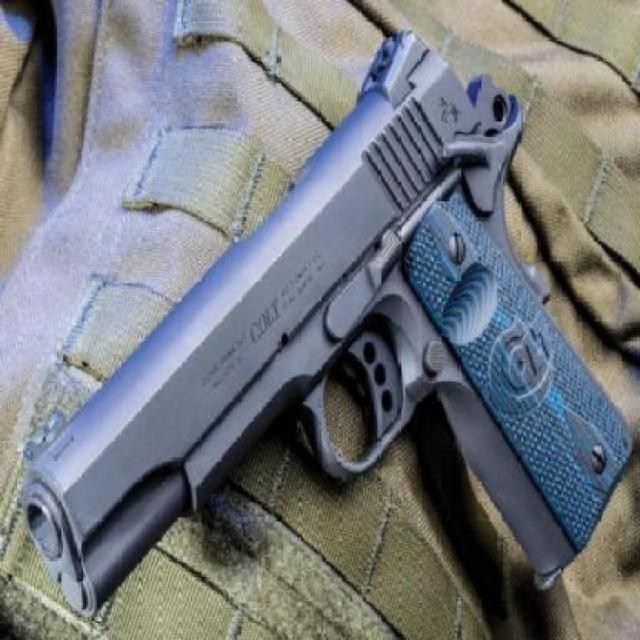gun: (15, 6, 638, 640)
